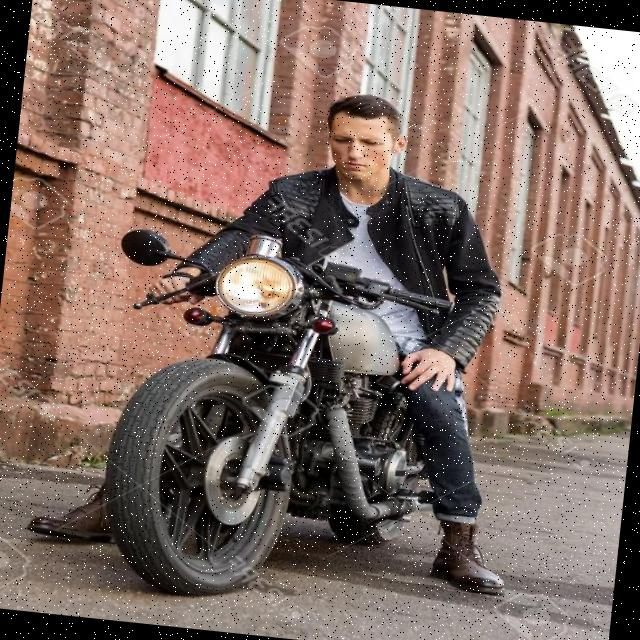No helmet: (314, 90, 424, 206)
